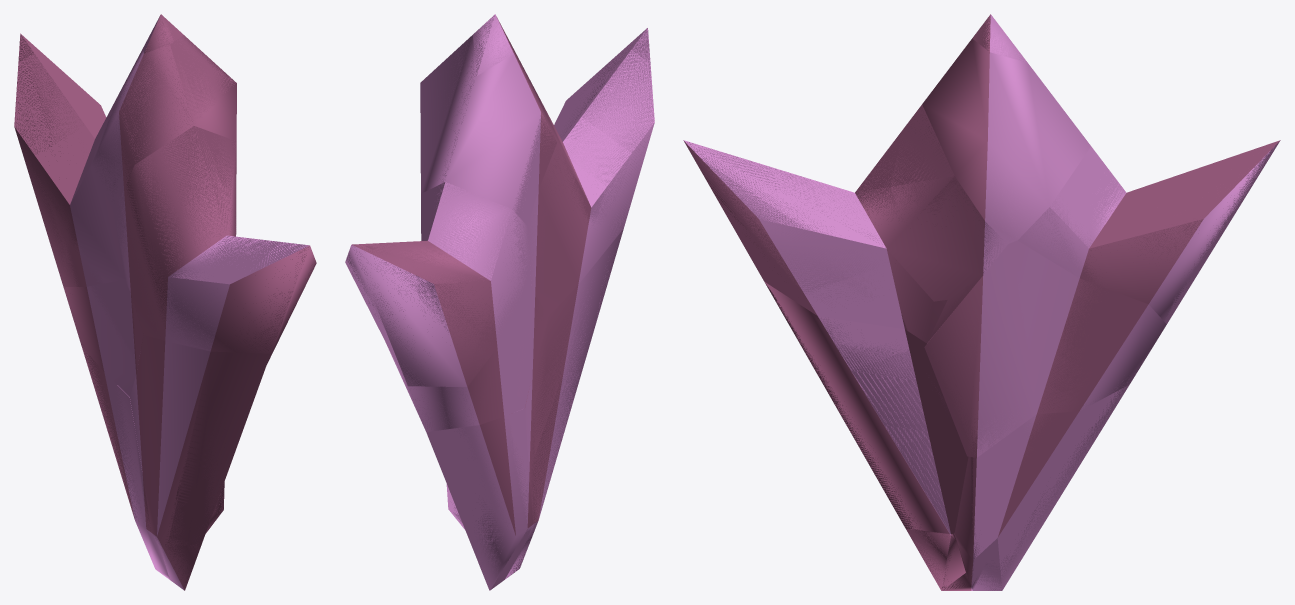
The model's file is ExplodingShield.fbx.
3 views of the same model, side by side, from view 1: azimuth 30°, elevation 25°; view 2: azimuth 150°, elevation 25°; view 3: azimuth 270°, elevation 25° (orthographic). The views are drawn at different scales.
Visible parts, largest first — view 1: Cube, Cube_shard, Cube_shard.004, Cube_shard.001, Cube_shard.007, Cube_shard.005, Cube_shard.003, Cube_shard.002, Cube_shard.006; view 2: Cube, Cube_shard.007, Cube_shard, Cube_shard.001, Cube_shard.004, Cube_shard.005, Cube_shard.003, Cube_shard.006; view 3: Cube, Cube_shard.005, Cube_shard, Cube_shard.001, Cube_shard.004, Cube_shard.007, Cube_shard.003, Cube_shard.002, Cube_shard.006.
Part boxes in pixels (x1,y1,x2,y2): Cube: [14, 14, 314, 582]; Cube_shard: [116, 127, 316, 353]; Cube_shard.004: [130, 335, 275, 548]; Cube_shard.001: [91, 35, 236, 209]; Cube_shard.007: [14, 35, 124, 287]; Cube_shard.005: [63, 286, 143, 395]; Cube_shard.003: [82, 347, 224, 578]; Cube_shard.002: [160, 544, 200, 590]; Cube_shard.006: [144, 14, 173, 53]; Cube: [345, 15, 654, 589]; Cube_shard.007: [345, 182, 529, 386]; Cube_shard: [528, 28, 654, 315]; Cube_shard.001: [420, 34, 555, 212]; Cube_shard.004: [517, 228, 623, 534]; Cube_shard.005: [385, 286, 548, 431]; Cube_shard.003: [446, 414, 533, 590]; Cube_shard.006: [473, 14, 513, 75]; Cube: [683, 14, 1280, 590]; Cube_shard.005: [925, 240, 1166, 454]; Cube_shard: [684, 115, 1006, 343]; Cube_shard.001: [922, 38, 1090, 243]; Cube_shard.004: [765, 282, 963, 534]; Cube_shard.007: [1018, 148, 1273, 321]; Cube_shard.003: [954, 384, 1129, 590]; Cube_shard.002: [908, 529, 972, 590]; Cube_shard.006: [983, 14, 1027, 62].
Size of the model in its own units: 118 by 537 by 504.
